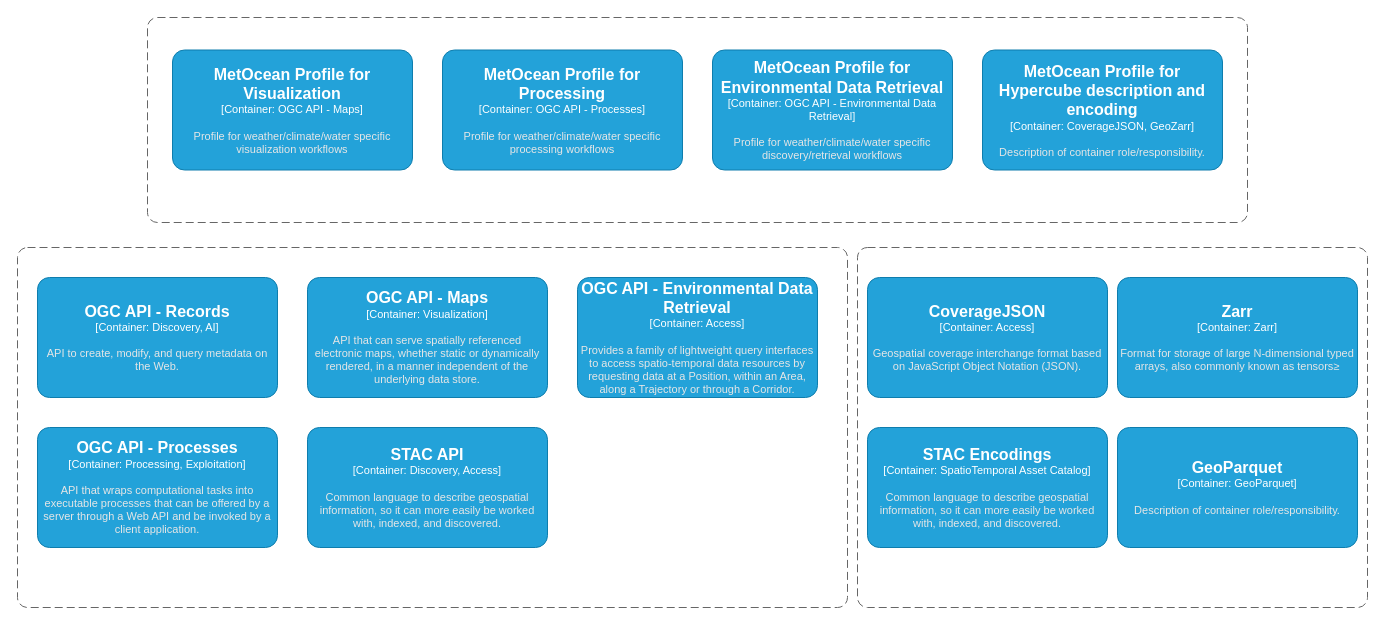
The diagram is 1385 pixels wide and 625 high, and some of its shapes have lost their labels. The box of each missing label's shape, as (x1, y1, x2, y2) in pixels:
Encodings [Formats]: (856, 246, 1368, 608)
Profiles [Domain specific detailed specifications]: (146, 16, 1248, 222)
Web APIs [Interfaces]: (16, 246, 848, 608)
